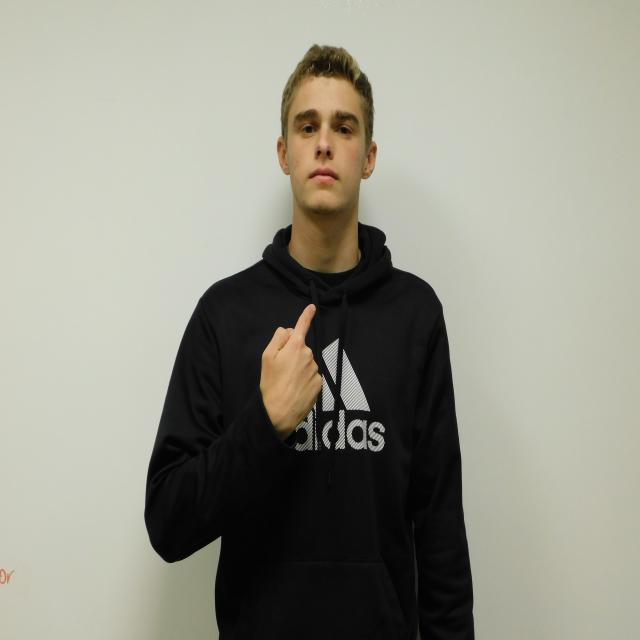I: (260, 304, 322, 429)
